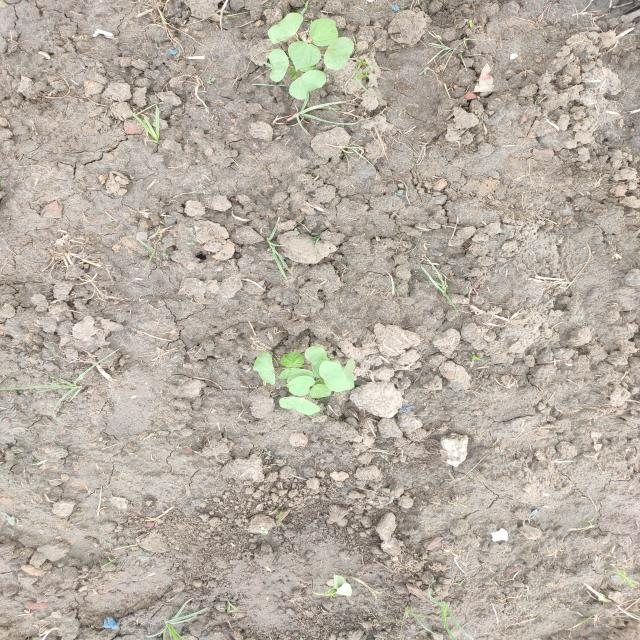seedling_s4: (267, 12, 303, 43), (289, 70, 326, 100), (323, 37, 354, 70), (288, 41, 321, 71), (319, 361, 350, 392), (309, 18, 339, 46), (305, 346, 329, 379), (279, 397, 320, 416), (267, 48, 289, 82), (253, 352, 275, 385), (285, 376, 315, 396), (280, 350, 304, 367), (287, 369, 315, 382), (310, 384, 332, 398), (279, 368, 302, 380), (344, 359, 356, 381)
